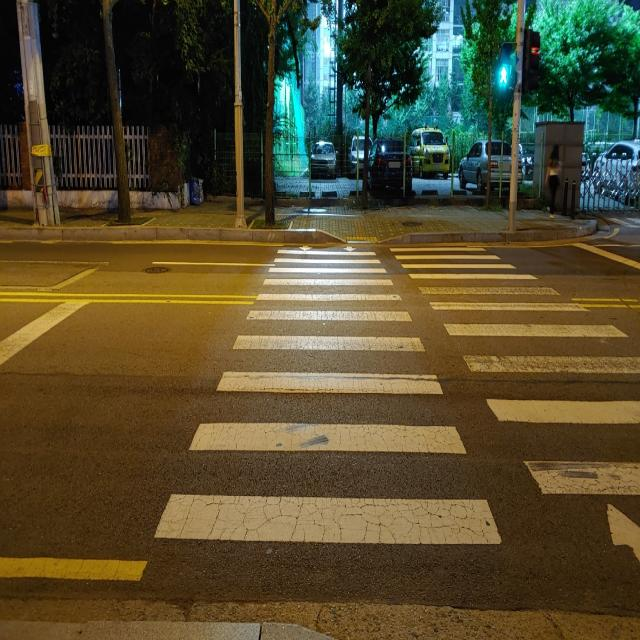초록불: (496, 44, 514, 93)
횡단보도: (153, 243, 640, 565)
